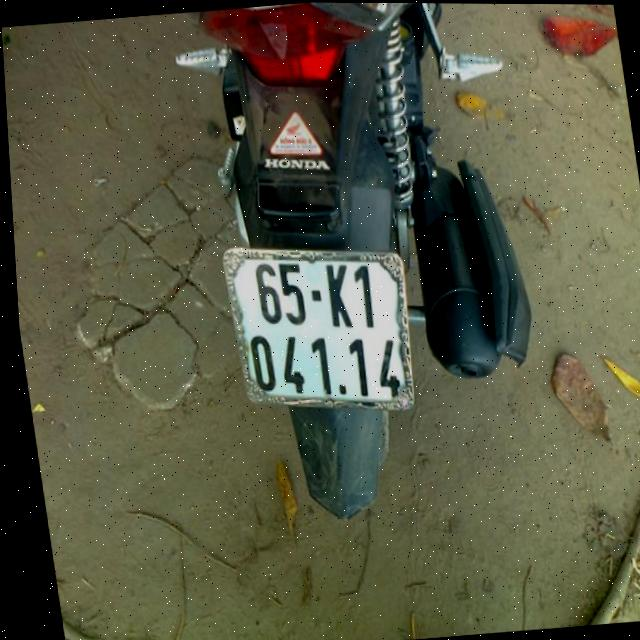motorcycle: (159, 1, 568, 534)
plate: (214, 228, 427, 429)
